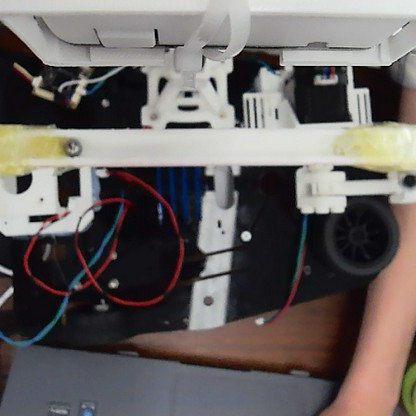ironball: (60, 133, 83, 159)
